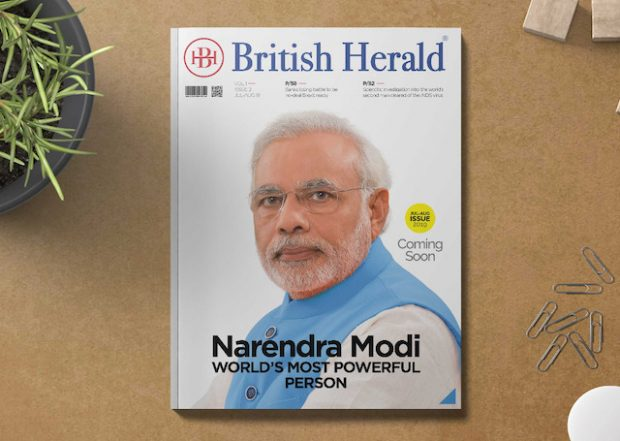modi: (226, 104, 426, 304)
